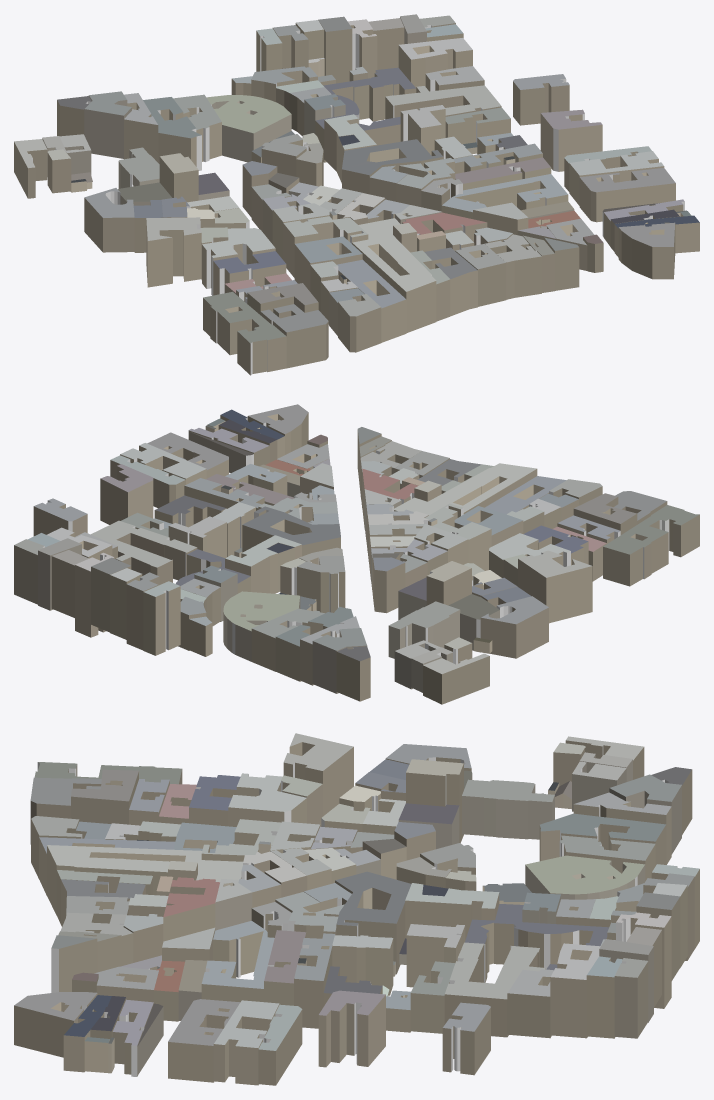
3 views of the same model, one above another, from view 1: azimuth 30°, elevation 25°; view 2: azimuth 150°, elevation 25°; view 3: azimuth 270°, elevation 25° (orthographic). The views are drawn at different scales.
Visible parts, largest first — view 1: tuile; view 2: tuile; view 3: tuile.
Part boxes in pixels (bbox=[...]): tuile: bbox=[14, 14, 699, 375]; tuile: bbox=[14, 404, 699, 704]; tuile: bbox=[14, 733, 699, 1085].
Size of the model in its own units: 273 by 43.37 by 265.
